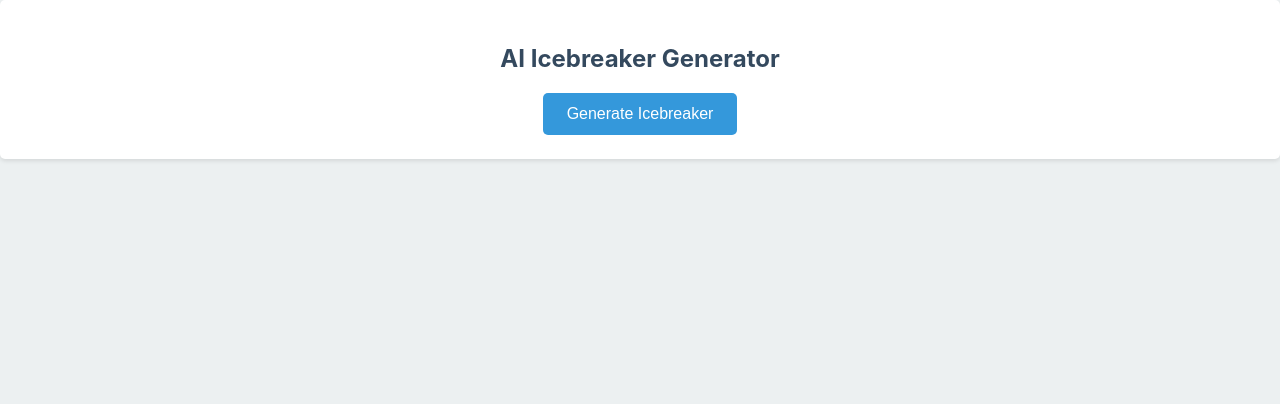
Test: IcebreakerGenerator Accessibility › copy button provides visual feedback and reverts
The width and height of the screenshot is (1280, 404).
Later steps or results of the test are not shown.
Click the button "Generate Icebreaker" at (640, 114), box [543,93,737,135]
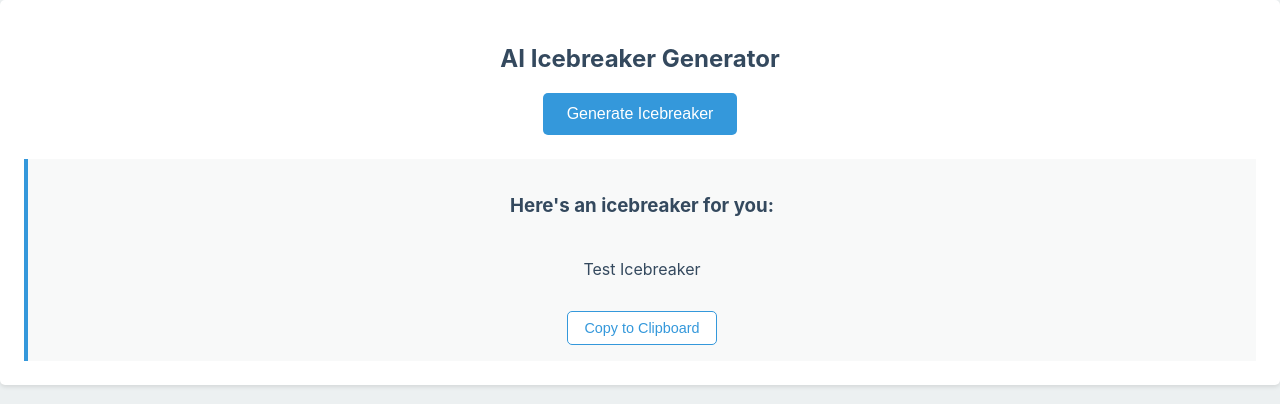
Now the text "Test Icebreaker" is shown, box [583,259,701,279]
Now the button with aria-label "copy icebreaker to clipboard" is shown
Now the button with aria-label "copy icebreaker to clipboard" reads "Copy to Clipboard"
Click the button with aria-label "copy icebreaker to clipboard" at (642, 328), box [567,311,717,345]
Now the button with aria-label "copy icebreaker to clipboard" reads "Copy to Clipboard", box [567,311,717,345]
